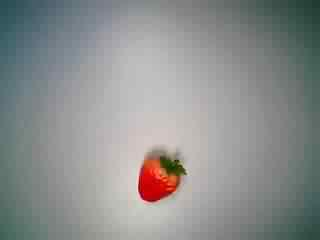strawberry: (127, 146, 193, 212)
